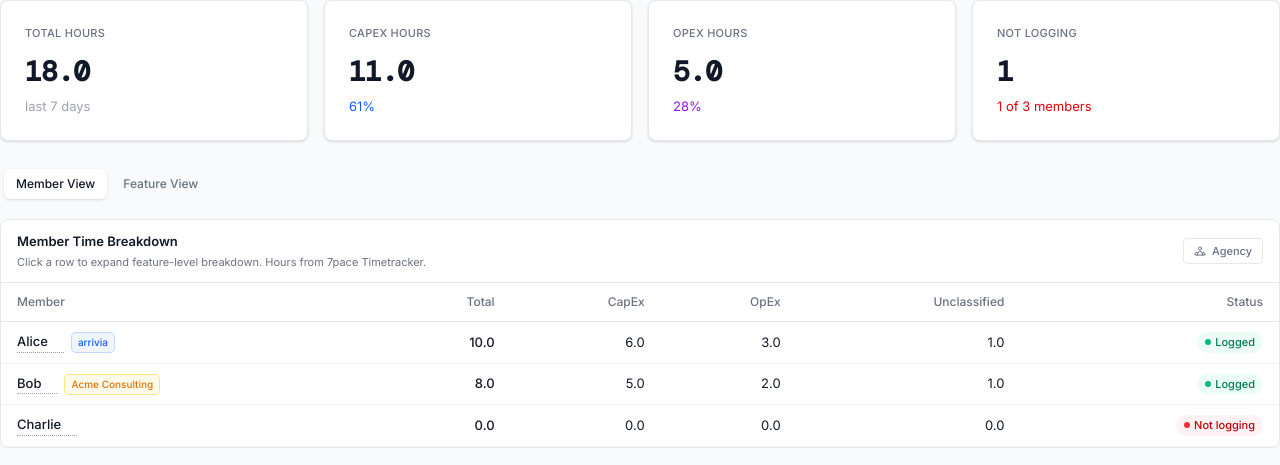
Test case: TimeTrackingTab — agency filter dropdown › restores full list when Clear filter clicked
The image size is (1280, 465).
Expected: the heading "Member Time Breakdown" is shown, [17, 233, 178, 249]
Click the button "Agency": (1223, 251) [1183, 238, 1263, 264]
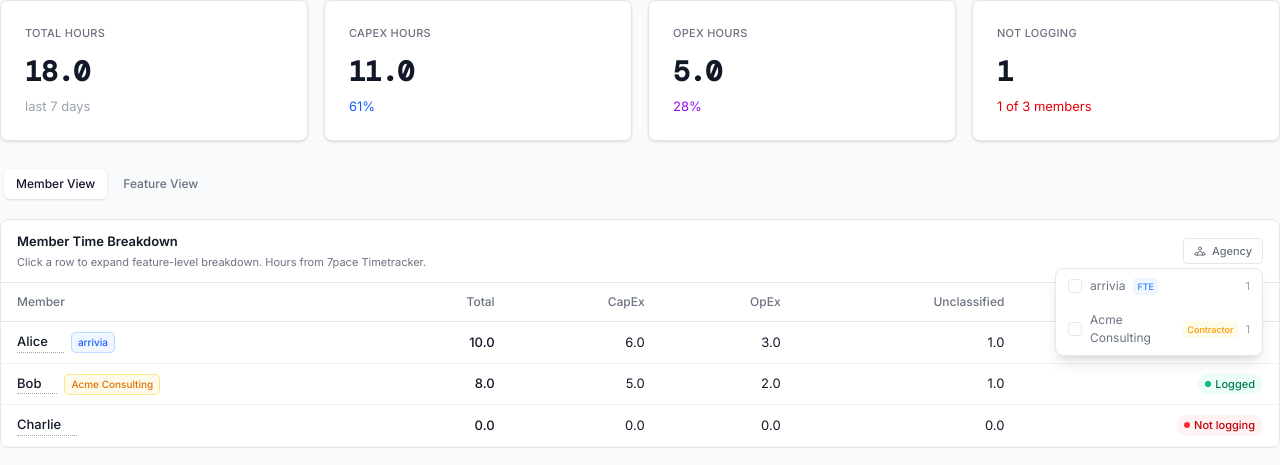
Click the menu item "arrivia FTE 1": (1159, 286) [1056, 269, 1262, 303]
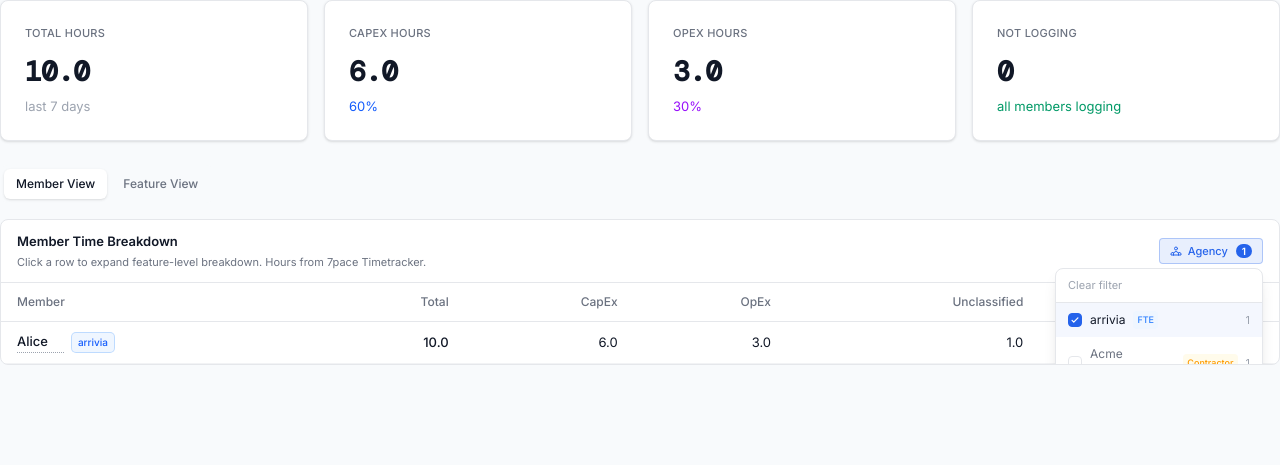
Expected: the button "Bob" is gone
Click the menu item "Clear filter": (1159, 286) [1056, 269, 1262, 303]
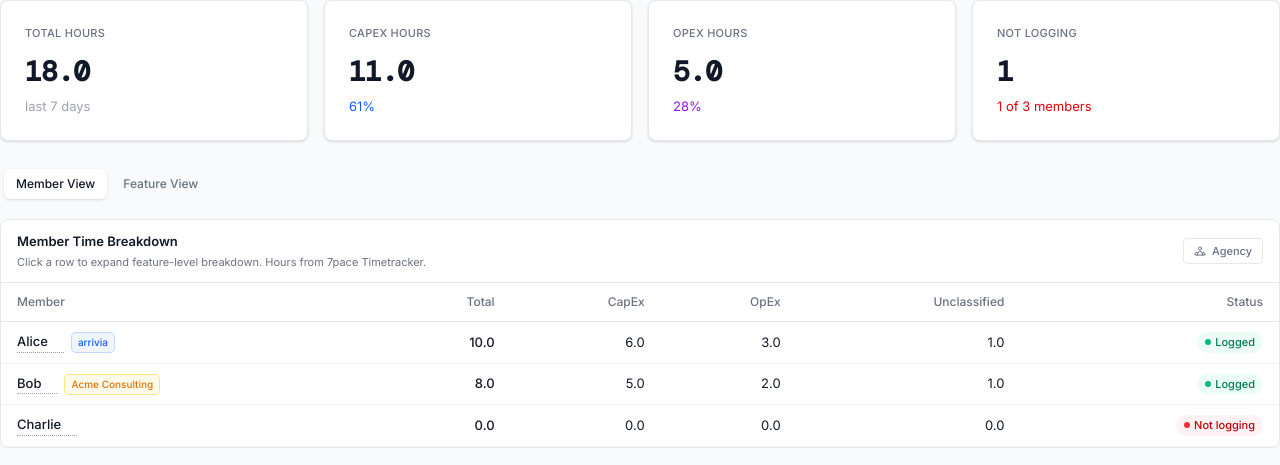
Expected: the button "Alice" is shown, [17, 332, 64, 352]
Expected: the button "Bob" is shown, [17, 374, 57, 394]
Expected: the button "Charlie" is shown, [17, 415, 77, 436]
